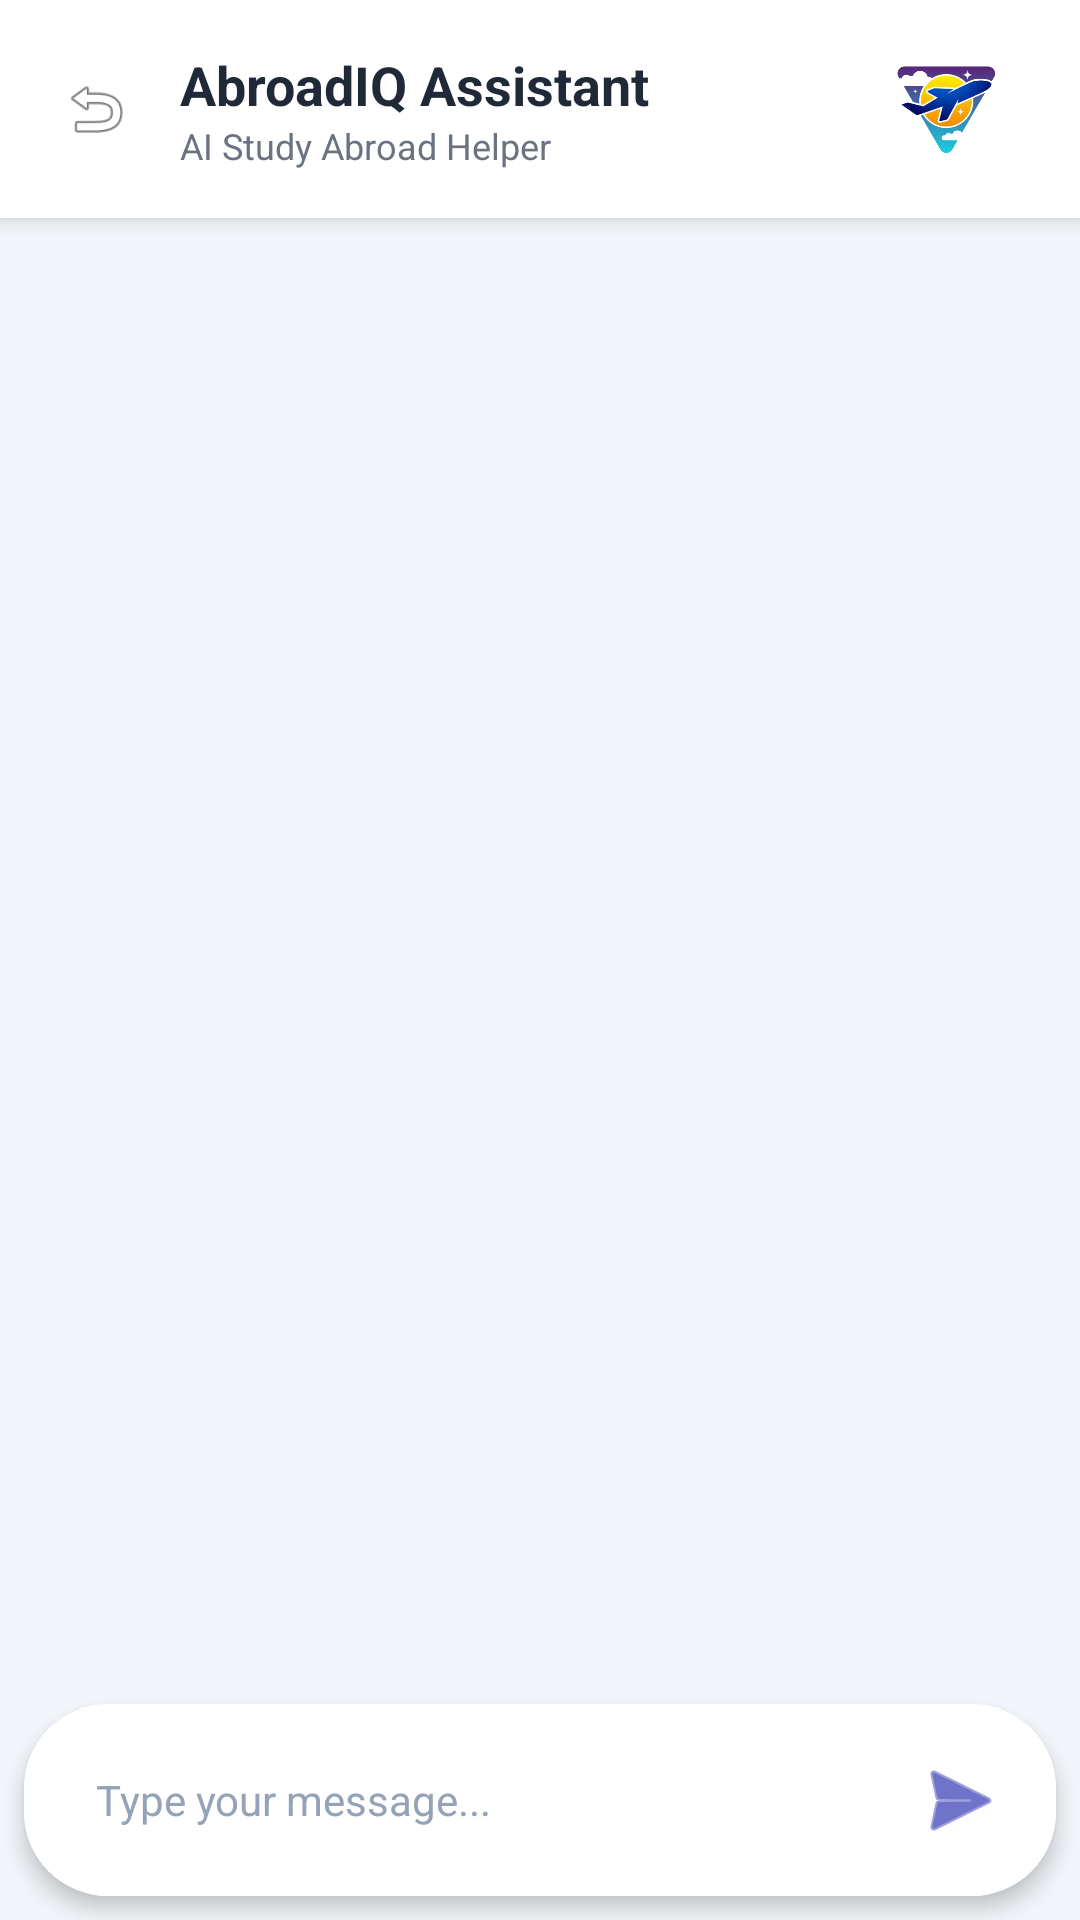

Screen size 1080x1920. Icon name, then its center in pixels as (x,y):
Back: (97,109)
Send: (961,1800)
